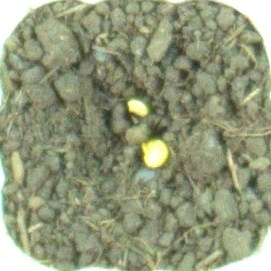chilli seed: (138, 136, 172, 168), (123, 96, 152, 119)
